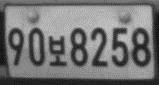0: (27, 26, 45, 66)
2: (90, 26, 108, 67)
5: (111, 26, 129, 67)
8: (131, 26, 151, 66), (70, 27, 88, 66)
9: (7, 27, 25, 65)
보: (48, 34, 67, 66)
